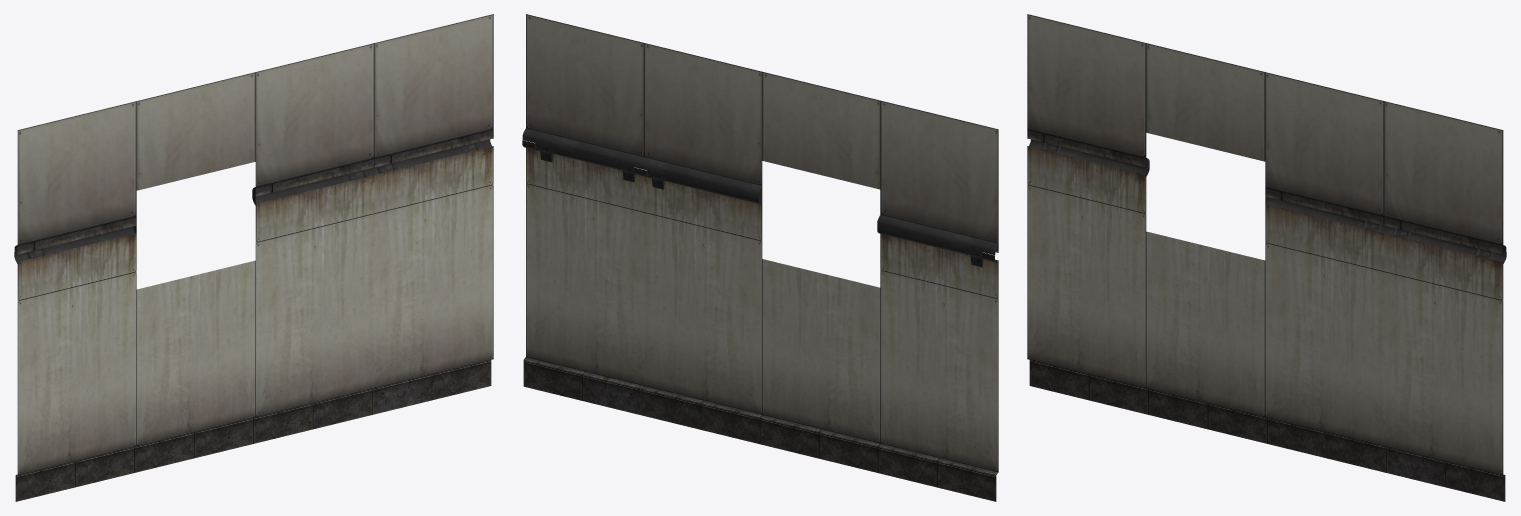
The model's file is lab_ark_room_vent.dae.
The picture shows the model from 3 angles, left to right: view 1: azimuth 30°, elevation 25°; view 2: azimuth 150°, elevation 25°; view 3: azimuth 330°, elevation 25°; orthographic projection.
Parts seen in each view (by area): view 1: lab_ark_room_vent; view 2: lab_ark_room_vent; view 3: lab_ark_room_vent.
Boxes of the visible parts, <box> form: lab_ark_room_vent: <box>14,14,493,501</box>; lab_ark_room_vent: <box>522,14,998,501</box>; lab_ark_room_vent: <box>1027,14,1506,501</box>.
Bounding box in the file's own units: 8 × 6 × 0.1056.
